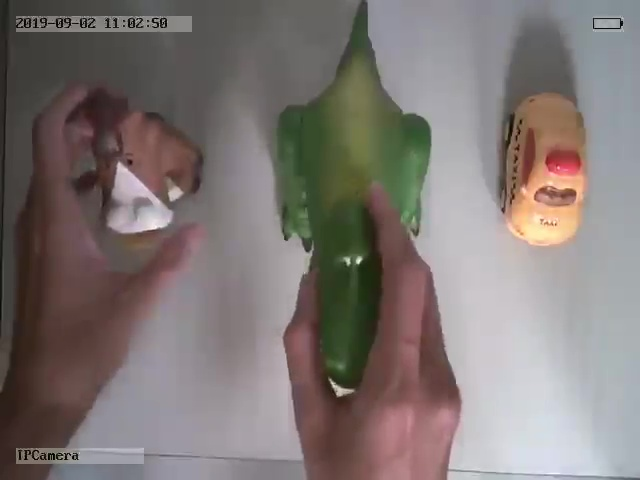car: (499, 91, 589, 250)
